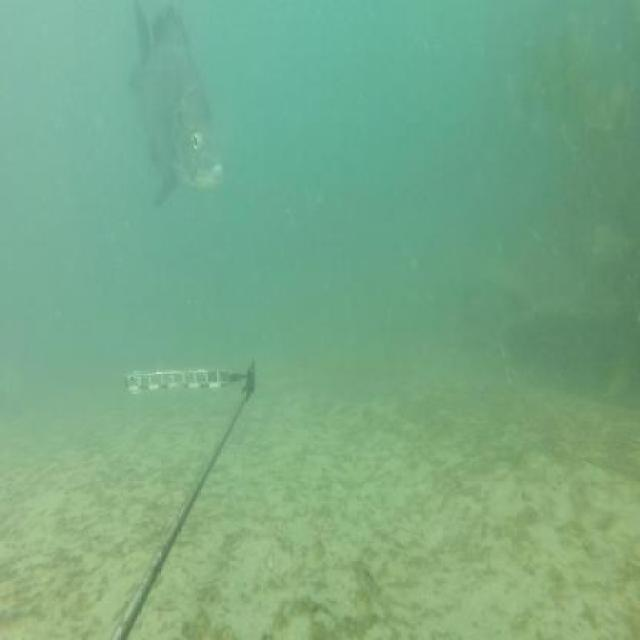acanthopagrus_palmaris: (127, 0, 227, 209)
